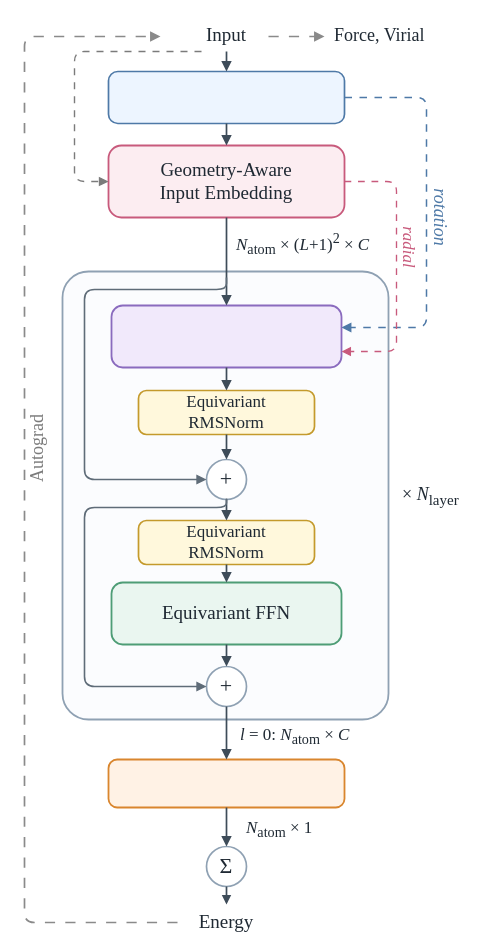
Image size: 488x951. Some labels were removed from this diagram. Here are the shapes that lost their labels. From the top down, the box of each, then its label:
(107, 70, 345, 124): Shared Edge Cache
(110, 304, 342, 368): SO(2) Multi-focus Convolution
(107, 758, 345, 808): Atomic Energy Head
